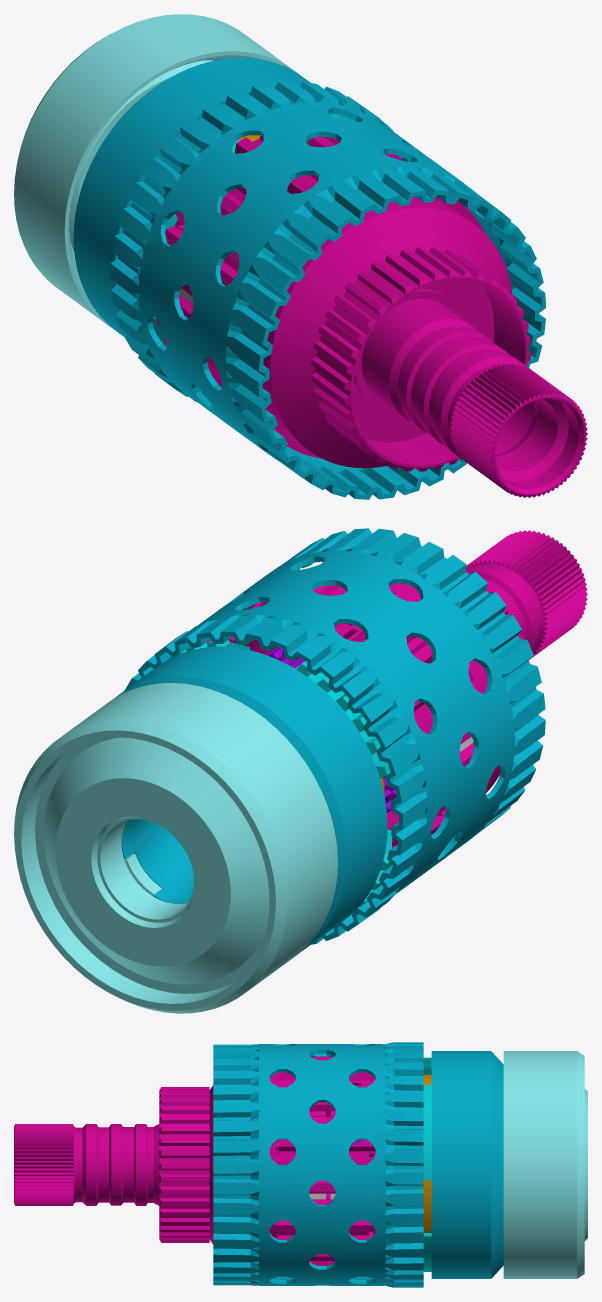
The model's file is animation export test #2.fbx.
3 views of the same model, one above another, from view 1: azimuth 30°, elevation 25°; view 2: azimuth 150°, elevation 25°; view 3: azimuth 270°, elevation 25° (orthographic). The views are drawn at different scales.
Parts seen in each view (by area): view 1: reverse reaction drum EMPTY, input shaft EMPTY, support roller clutch EMPTY, reaction sun gear EMPTY; view 2: support roller clutch EMPTY, reverse reaction drum EMPTY, reaction sun gear EMPTY, input shaft EMPTY, input carrier assembly EMPTY, support inner EMPTY; view 3: reverse reaction drum EMPTY, input shaft EMPTY, support roller clutch EMPTY, reaction sun gear EMPTY, input carrier assembly EMPTY, reaction carrier assembly EMPTY.
Boxes of the visible parts, box(x1,y1,x2,y2) form: reverse reaction drum EMPTY: box(110, 81, 546, 499); input shaft EMPTY: box(156, 135, 587, 497); support roller clutch EMPTY: box(14, 14, 299, 329); reaction sun gear EMPTY: box(73, 57, 310, 337); support roller clutch EMPTY: box(14, 683, 337, 1013); reverse reaction drum EMPTY: box(125, 528, 545, 944); reaction sun gear EMPTY: box(116, 646, 387, 951); input shaft EMPTY: box(206, 530, 587, 869); input carrier assembly EMPTY: box(167, 640, 392, 906); support inner EMPTY: box(124, 853, 162, 895); reverse reaction drum EMPTY: box(213, 1042, 423, 1287); input shaft EMPTY: box(14, 1056, 375, 1265); support roller clutch EMPTY: box(503, 1051, 587, 1278); reaction sun gear EMPTY: box(431, 1051, 503, 1278); input carrier assembly EMPTY: box(423, 1057, 431, 1271); reaction carrier assembly EMPTY: box(423, 1074, 431, 1232).
Size of the model in its own units: 1483 by 1483 by 3466.
